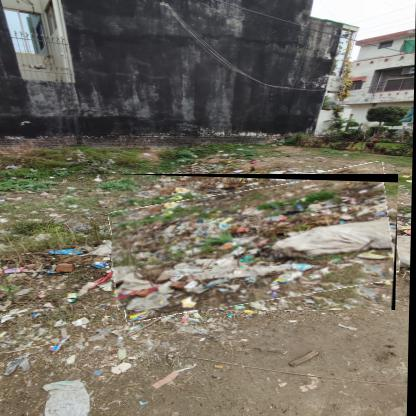Garbage: (113, 175, 401, 312)
